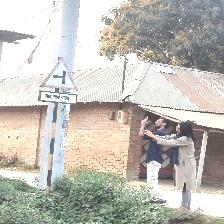Side-road-left: (39, 60, 78, 104)
